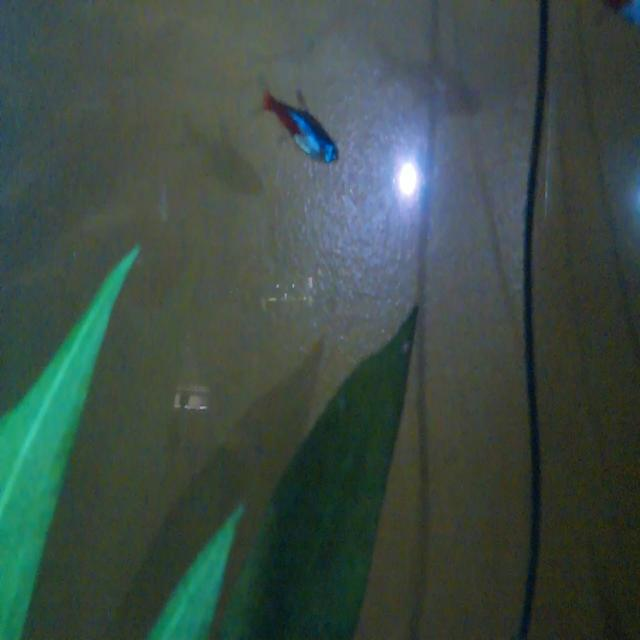fish: (260, 81, 352, 192)
